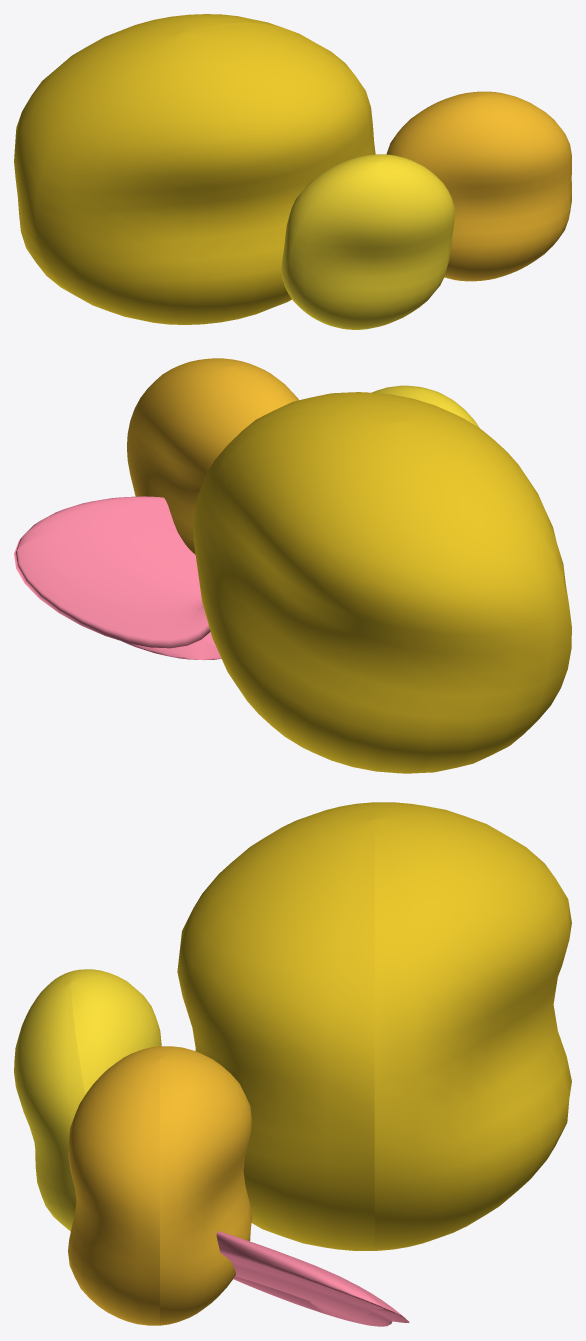
Rendered from digestive.glb.
3 renders of one model, top to bottom at view 1: azimuth 30°, elevation 25°; view 2: azimuth 150°, elevation 25°; view 3: azimuth 270°, elevation 25°, orthographic. The views are drawn at different scales.
Visible parts, largest first — view 1: Mesh_Bovine_Rumen, Mesh_Bovine_Reticulum, Mesh_Bovine_Omasum; view 2: Mesh_Bovine_Rumen, Mesh_Bovine_Abomasum, Mesh_Bovine_Omasum, Mesh_Bovine_Reticulum; view 3: Mesh_Bovine_Rumen, Mesh_Bovine_Omasum, Mesh_Bovine_Reticulum, Mesh_Bovine_Abomasum.
Boxes of the visible parts, x1,y1,x2,y2 form: Mesh_Bovine_Rumen: (14,14,375,324); Mesh_Bovine_Reticulum: (281,154,454,329); Mesh_Bovine_Omasum: (386,91,571,281); Mesh_Bovine_Rumen: (193,392,571,773); Mesh_Bovine_Abomasum: (14,496,221,660); Mesh_Bovine_Omasum: (127,358,298,554); Mesh_Bovine_Reticulum: (372,385,479,427); Mesh_Bovine_Rumen: (177,802,571,1250); Mesh_Bovine_Omasum: (68,1046,251,1325); Mesh_Bovine_Reticulum: (14,969,161,1231); Mesh_Bovine_Abomasum: (216,1231,409,1326).
Size of the model in its own units: 1.26 by 0.7165 by 0.9098.
